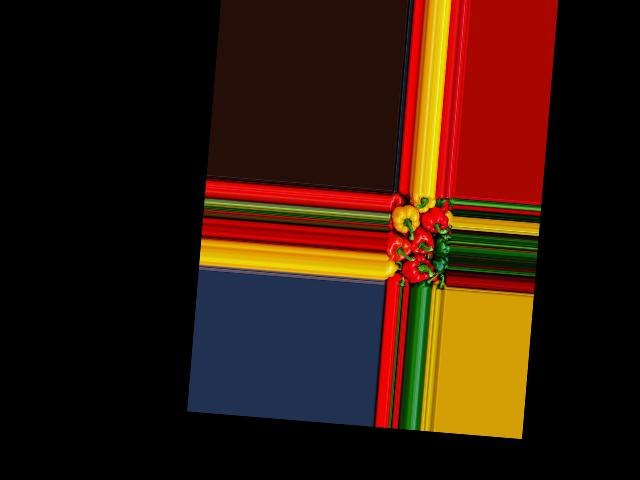bell_pepper: (383, 260, 397, 277)
